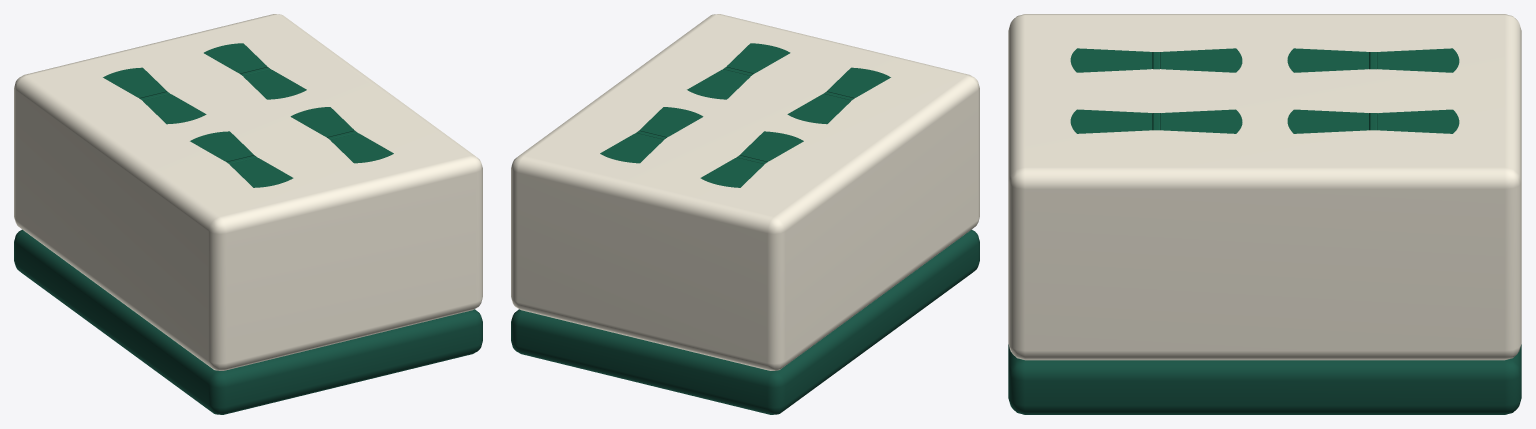
File: suo-04.glb
3 renders of one model, left to right at view 1: azimuth 30°, elevation 25°; view 2: azimuth 150°, elevation 25°; view 3: azimuth 270°, elevation 25°, orthographic. The views are drawn at different scales.
Visible parts, largest first — view 1: suo-04_ivory, suo-04_back, suo-04_face_inlays; view 2: suo-04_ivory, suo-04_back, suo-04_face_inlays; view 3: suo-04_ivory, suo-04_back, suo-04_face_inlays.
Part boxes in pixels (x1=…): suo-04_ivory: x1=14, y1=14, x2=482, y2=370; suo-04_back: x1=14, y1=229, x2=482, y2=414; suo-04_face_inlays: x1=103, y1=43, x2=393, y2=187; suo-04_ivory: x1=511, y1=14, x2=979, y2=370; suo-04_back: x1=511, y1=229, x2=979, y2=414; suo-04_face_inlays: x1=600, y1=43, x2=890, y2=187; suo-04_ivory: x1=1008, y1=14, x2=1521, y2=360; suo-04_back: x1=1008, y1=344, x2=1521, y2=414; suo-04_face_inlays: x1=1070, y1=48, x2=1459, y2=133.
Bounding box in the file's own units: 0.026 × 0.018 × 0.034.
